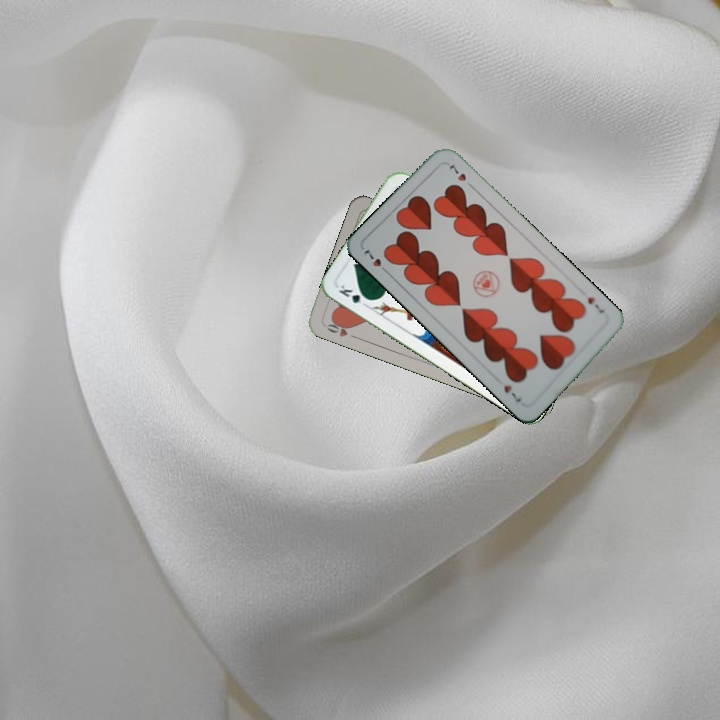GK: (334, 281, 373, 310)
H7: (360, 246, 392, 277), (584, 293, 607, 316)
HO: (321, 316, 360, 341)
